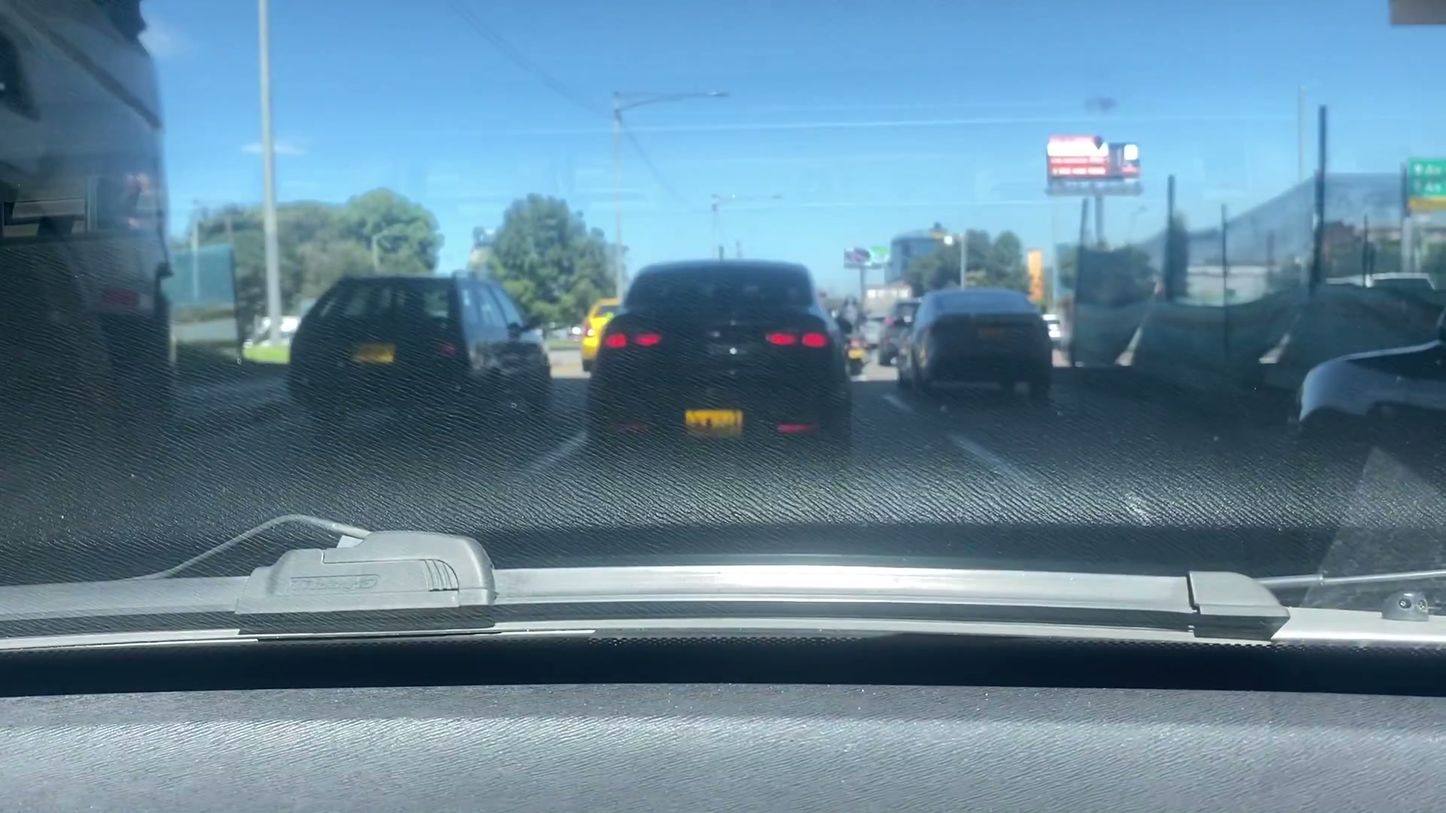car: (579, 255, 856, 459), (289, 271, 556, 416), (901, 285, 1052, 391), (578, 289, 622, 371)
motorcycle: (845, 328, 869, 379)
